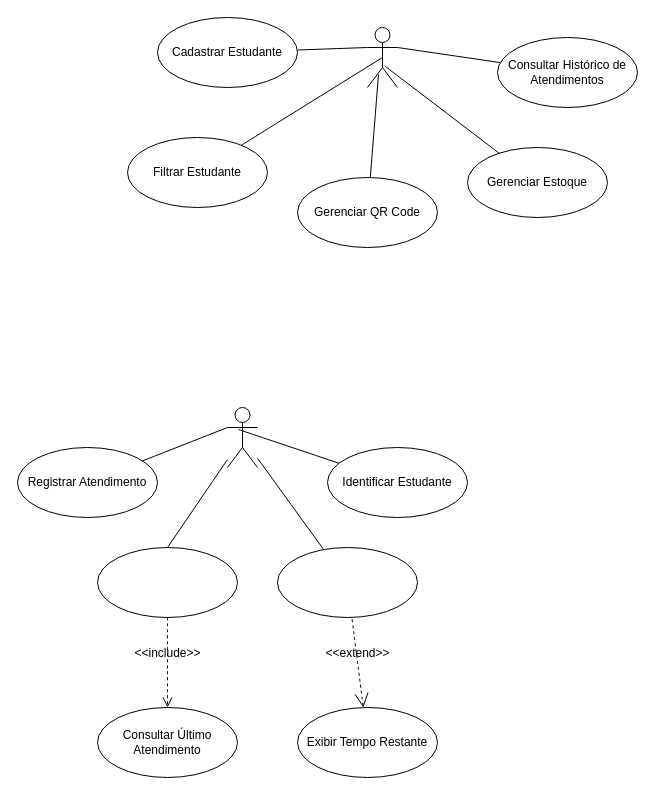
This 655x795 diagram has some shape labels left out. The centre of each missing label's shape, as x and y in pixels:
"Administrador" goes at pixel 382 57.
"Exibir Resultado da Validação" goes at pixel 347 582.
"Operador(a)" goes at pixel 242 437.
"Validar Elegibilidade" goes at pixel 167 582.
